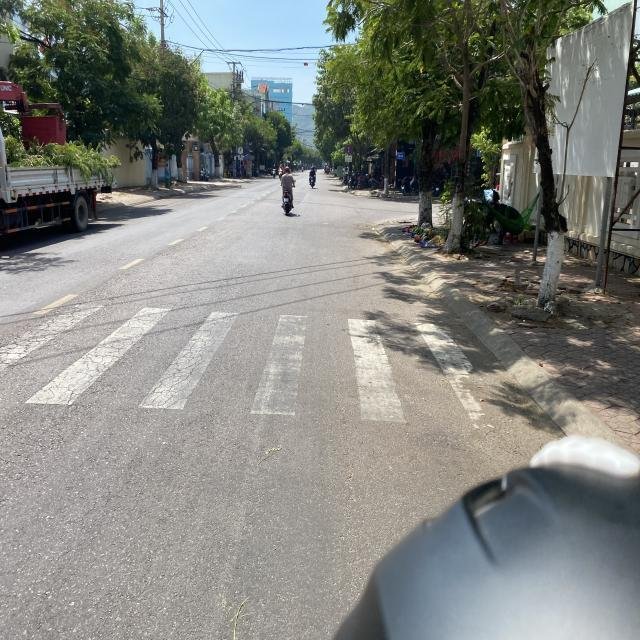walk-crossing: (18, 298, 535, 422)
